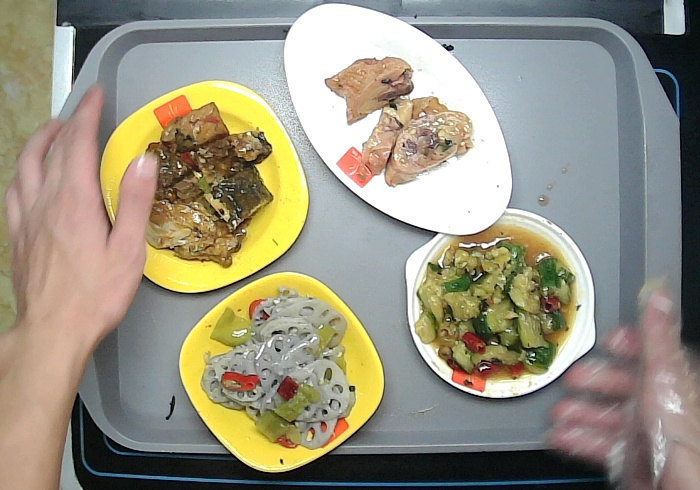SHKJ-Bao_Yu_Pan: (402, 206, 598, 400)
SHKJ-Huang_Se_Cai_Die: (177, 268, 386, 475)
SHKJ-Huang_Se_Si_Fang_Cai_Die: (97, 78, 310, 295)
SHKJ-Yu_Pan: (282, 2, 515, 237)
